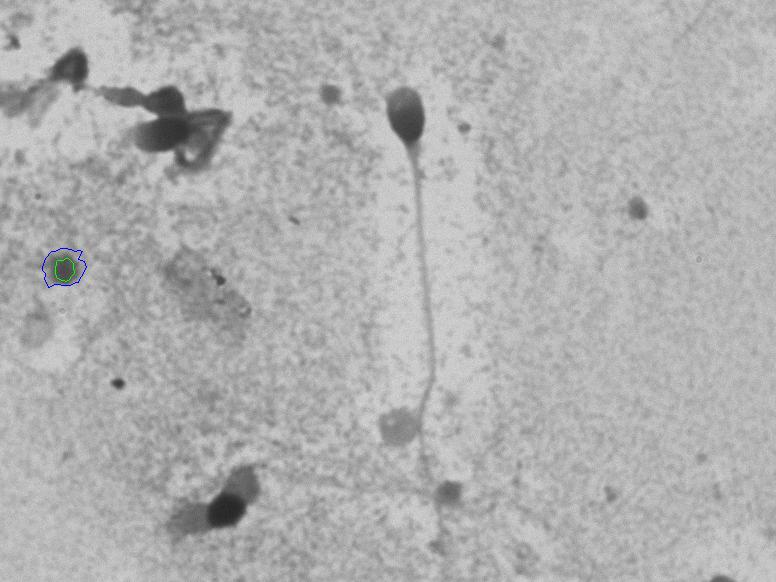Abnormal: (145, 388, 305, 548), (98, 89, 243, 202)
Normal: (355, 30, 482, 545)
